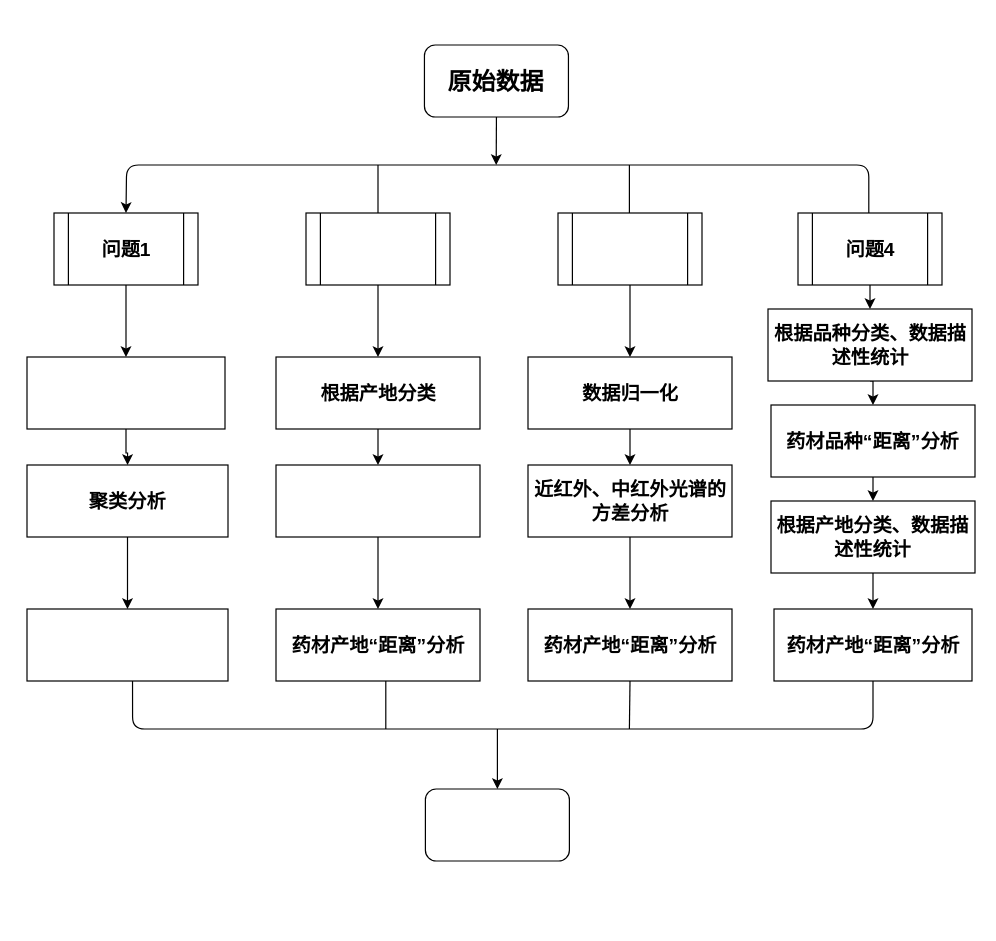
This 996x941 diagram has some shape labels left out. Each missing label, with the centre of its shape:
"数据描述性统计" belongs at point 127,644.
"数据描述性统计 + 方差分析" belongs at point 377,500.
"数据预处理" belongs at point 125,392.
"结论" belongs at point 496,824.
"问题2" belongs at point 377,248.
"问题3" belongs at point 629,248.
